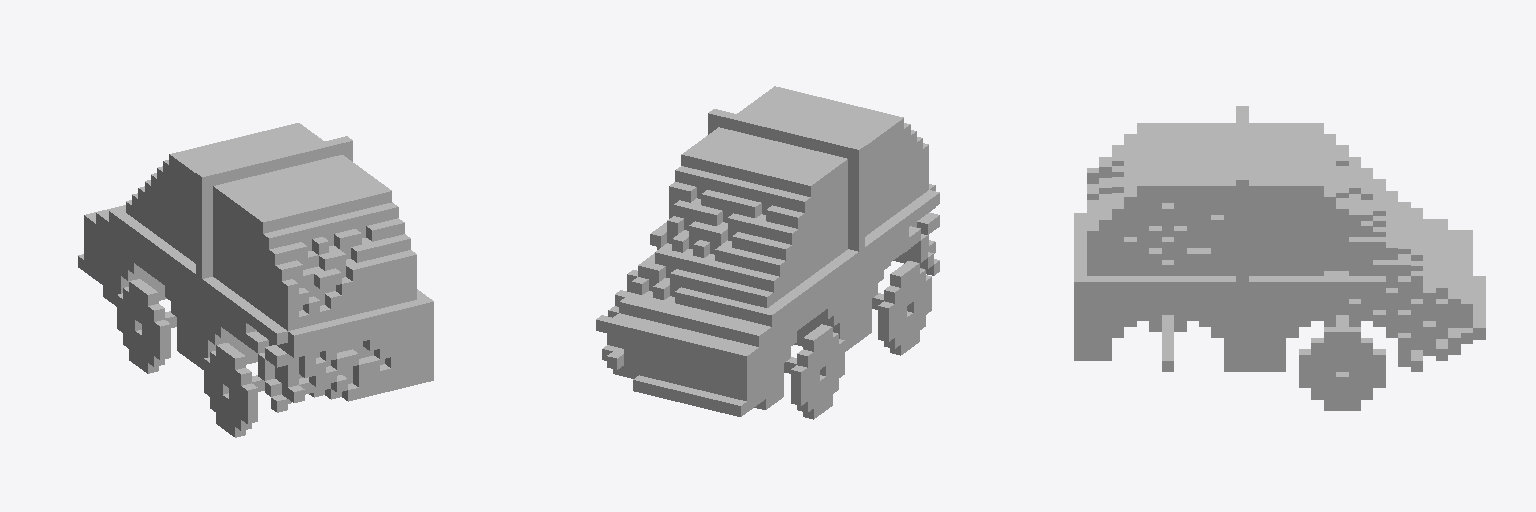
Rendered from carroDoMal.obj.
The picture shows the model from 3 angles: view 1: azimuth 30°, elevation 25°; view 2: azimuth 150°, elevation 25°; view 3: azimuth 270°, elevation 25°; orthographic projection.
Bounding box in the file's own units: 16 × 20 × 33.